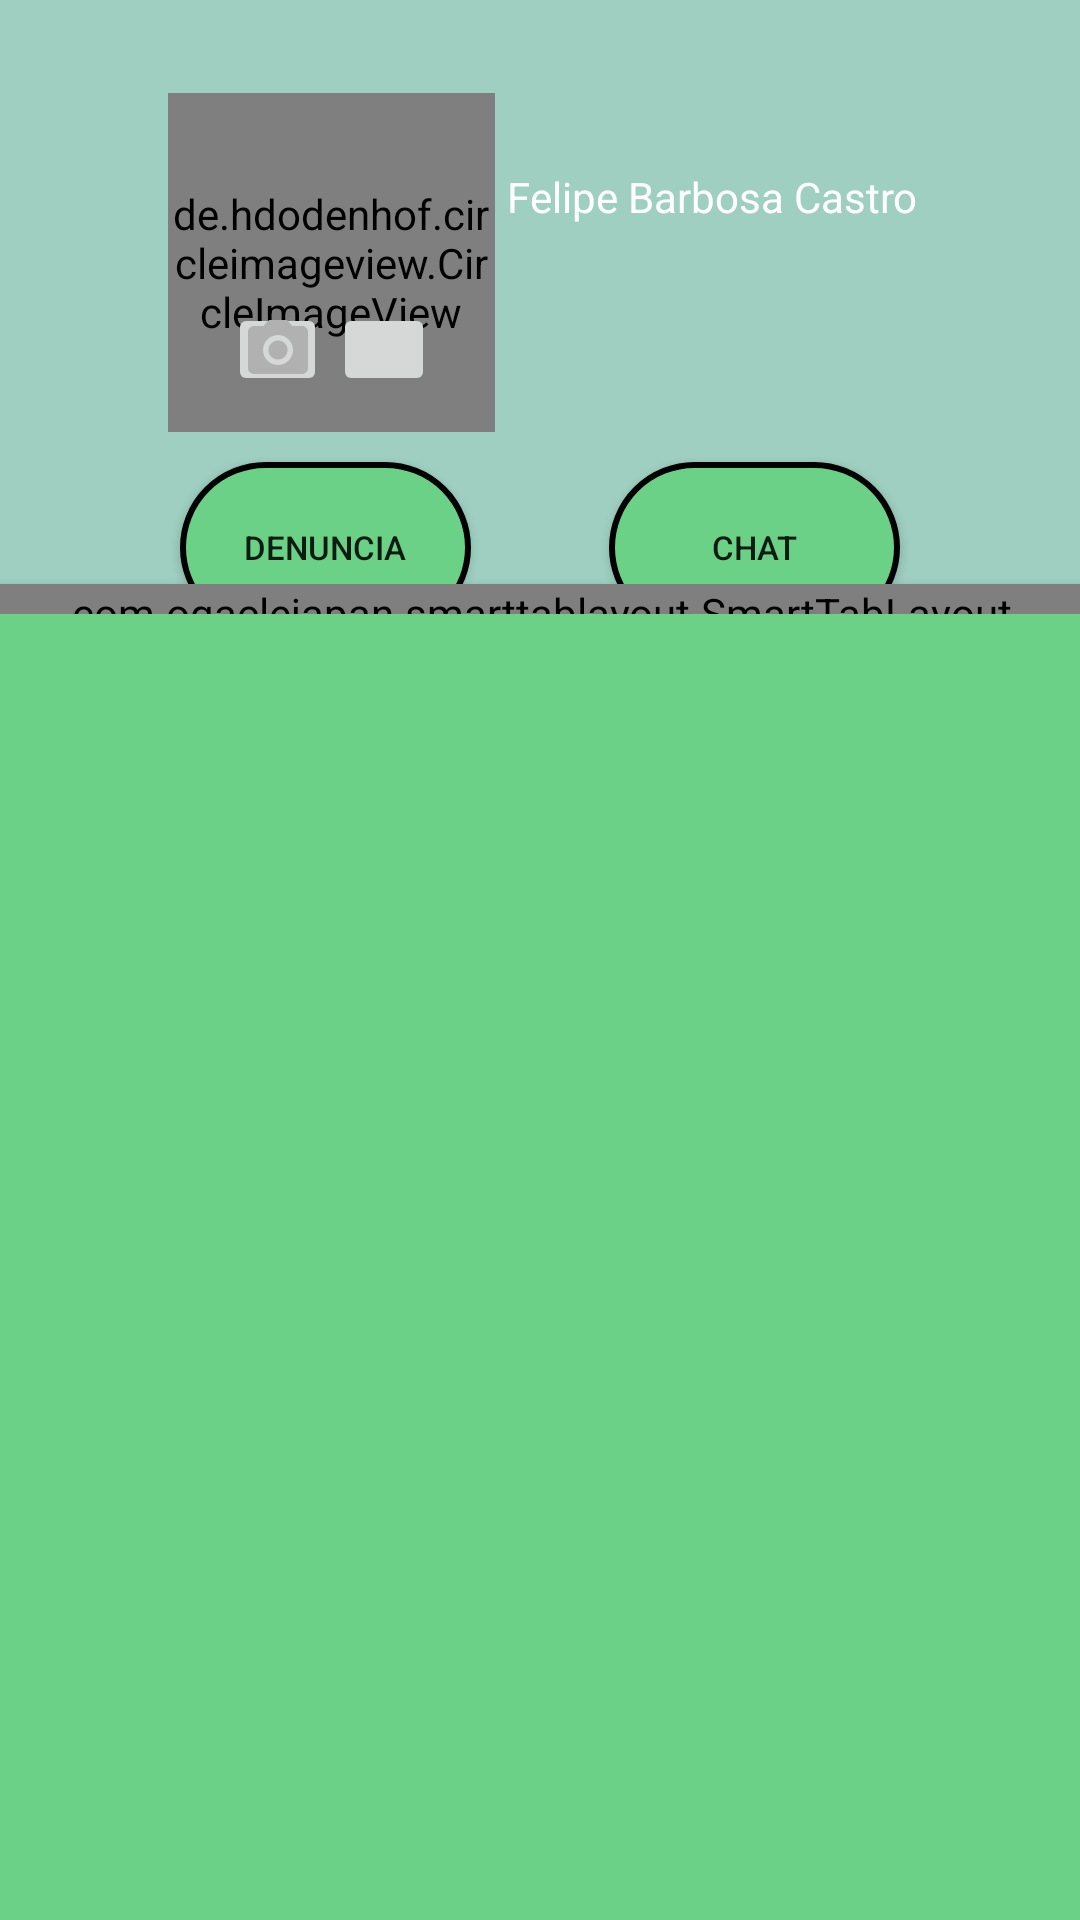

Point at icon controls on the screen. Image size 1080*1920, points as point (x, y).
photo camera cinza: point (278, 340)
